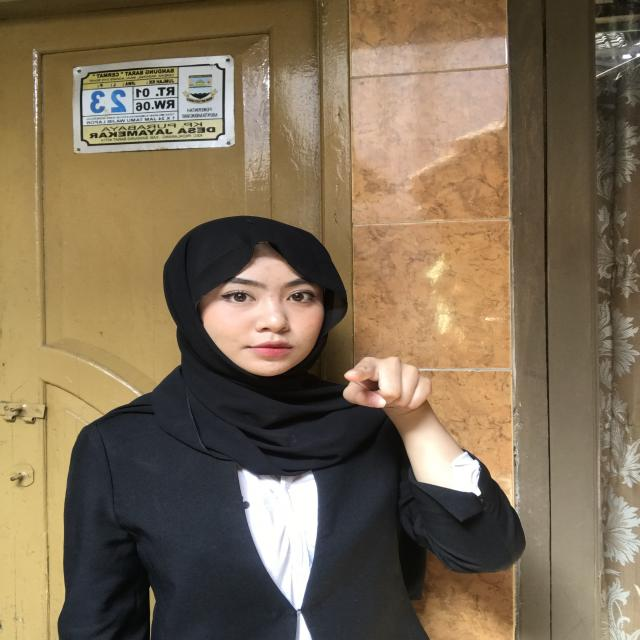kamu: (304, 334, 452, 439)
